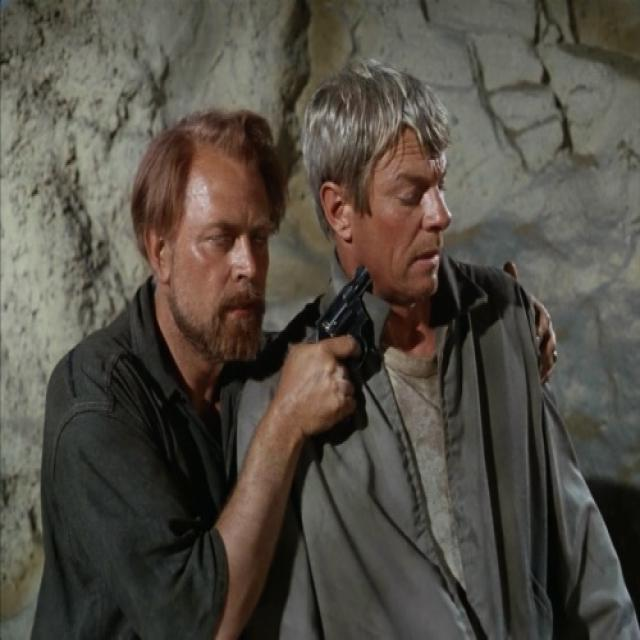weapons: (309, 246, 387, 434)
